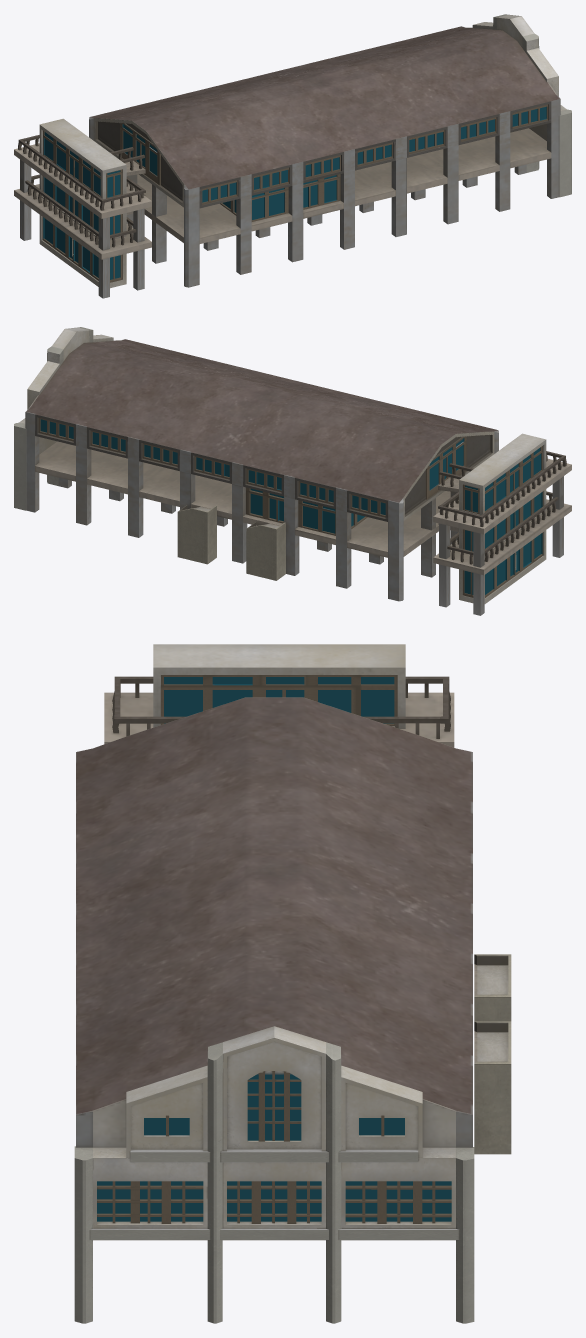
The model's file is Bat_Port_4.fbx.
3 views of the same model, one above another, from view 1: azimuth 30°, elevation 25°; view 2: azimuth 150°, elevation 25°; view 3: azimuth 270°, elevation 25° (orthographic). The views are drawn at different scales.
Visible parts, largest first — view 1: Bat_Port_4; view 2: Bat_Port_4; view 3: Bat_Port_4.
Boxes of the visible parts, <box> form: Bat_Port_4: <box>14,14,571,298</box>; Bat_Port_4: <box>14,327,571,615</box>; Bat_Port_4: <box>74,644,511,1323</box>.
Bounding box in the file's own units: 3885 × 1134 × 1580.
